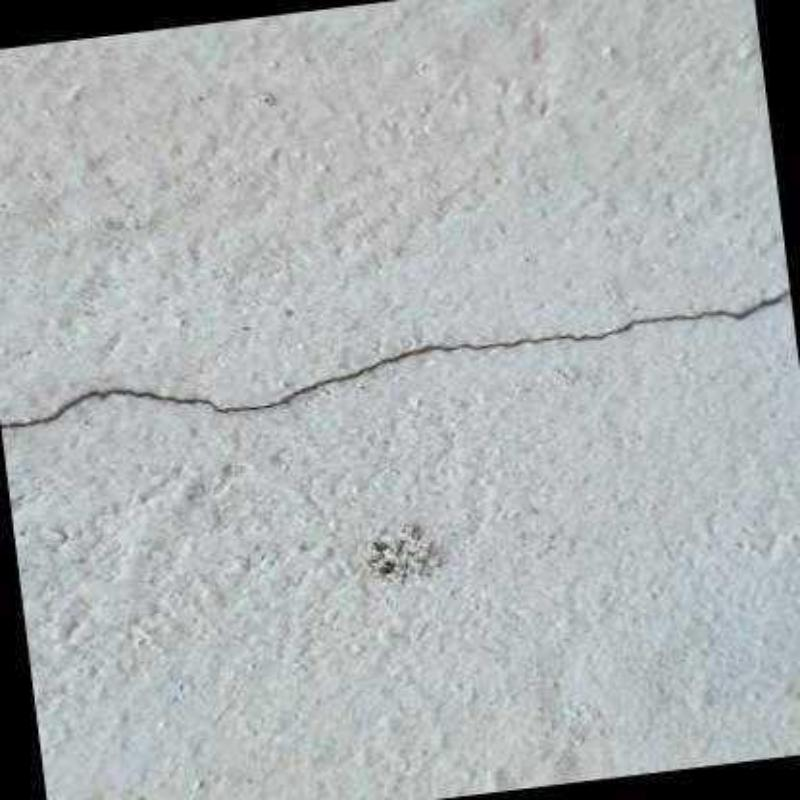crack: (0, 287, 790, 430)
